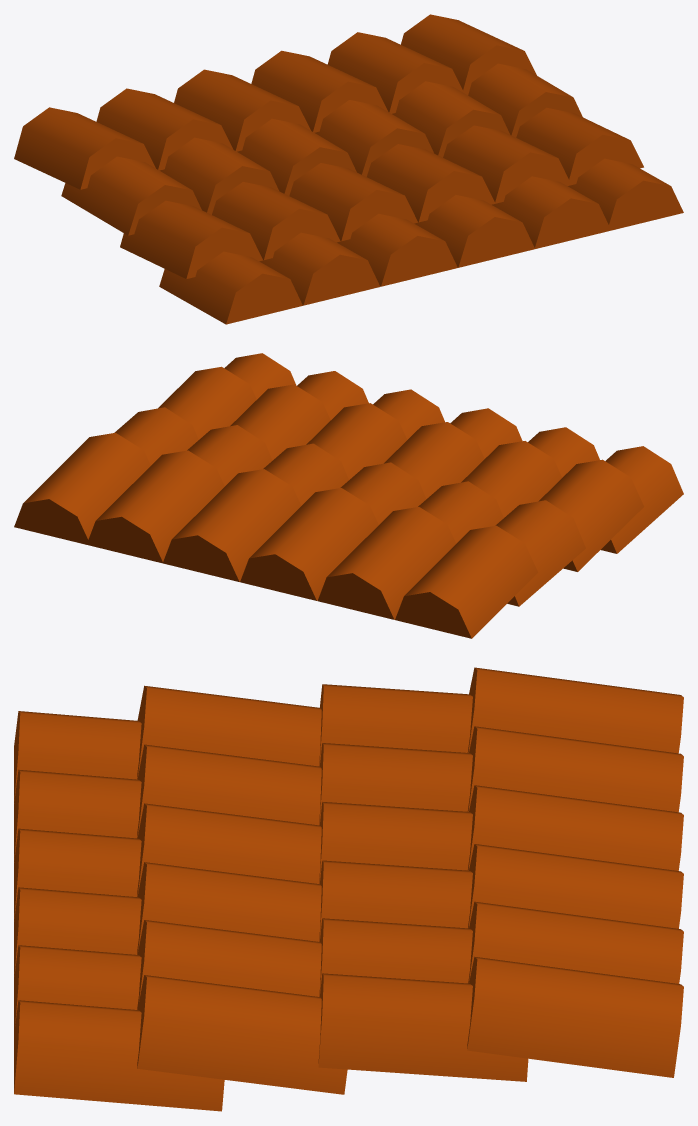
The model's file is roof_01.fbx.
The picture shows the model from 3 angles, top to bottom: view 1: azimuth 30°, elevation 25°; view 2: azimuth 150°, elevation 25°; view 3: azimuth 270°, elevation 25°; orthographic projection. The views are drawn at different scales.
Parts seen in each view (by area): view 1: roof_03; view 2: roof_03; view 3: roof_03.
Part boxes in pixels (box(x1,y1,x2,y2)): roof_03: box(14, 14, 683, 324); roof_03: box(14, 353, 683, 638); roof_03: box(14, 667, 683, 1111).
Bounding box in the file's own units: 119 × 96.95 × 19.64.
